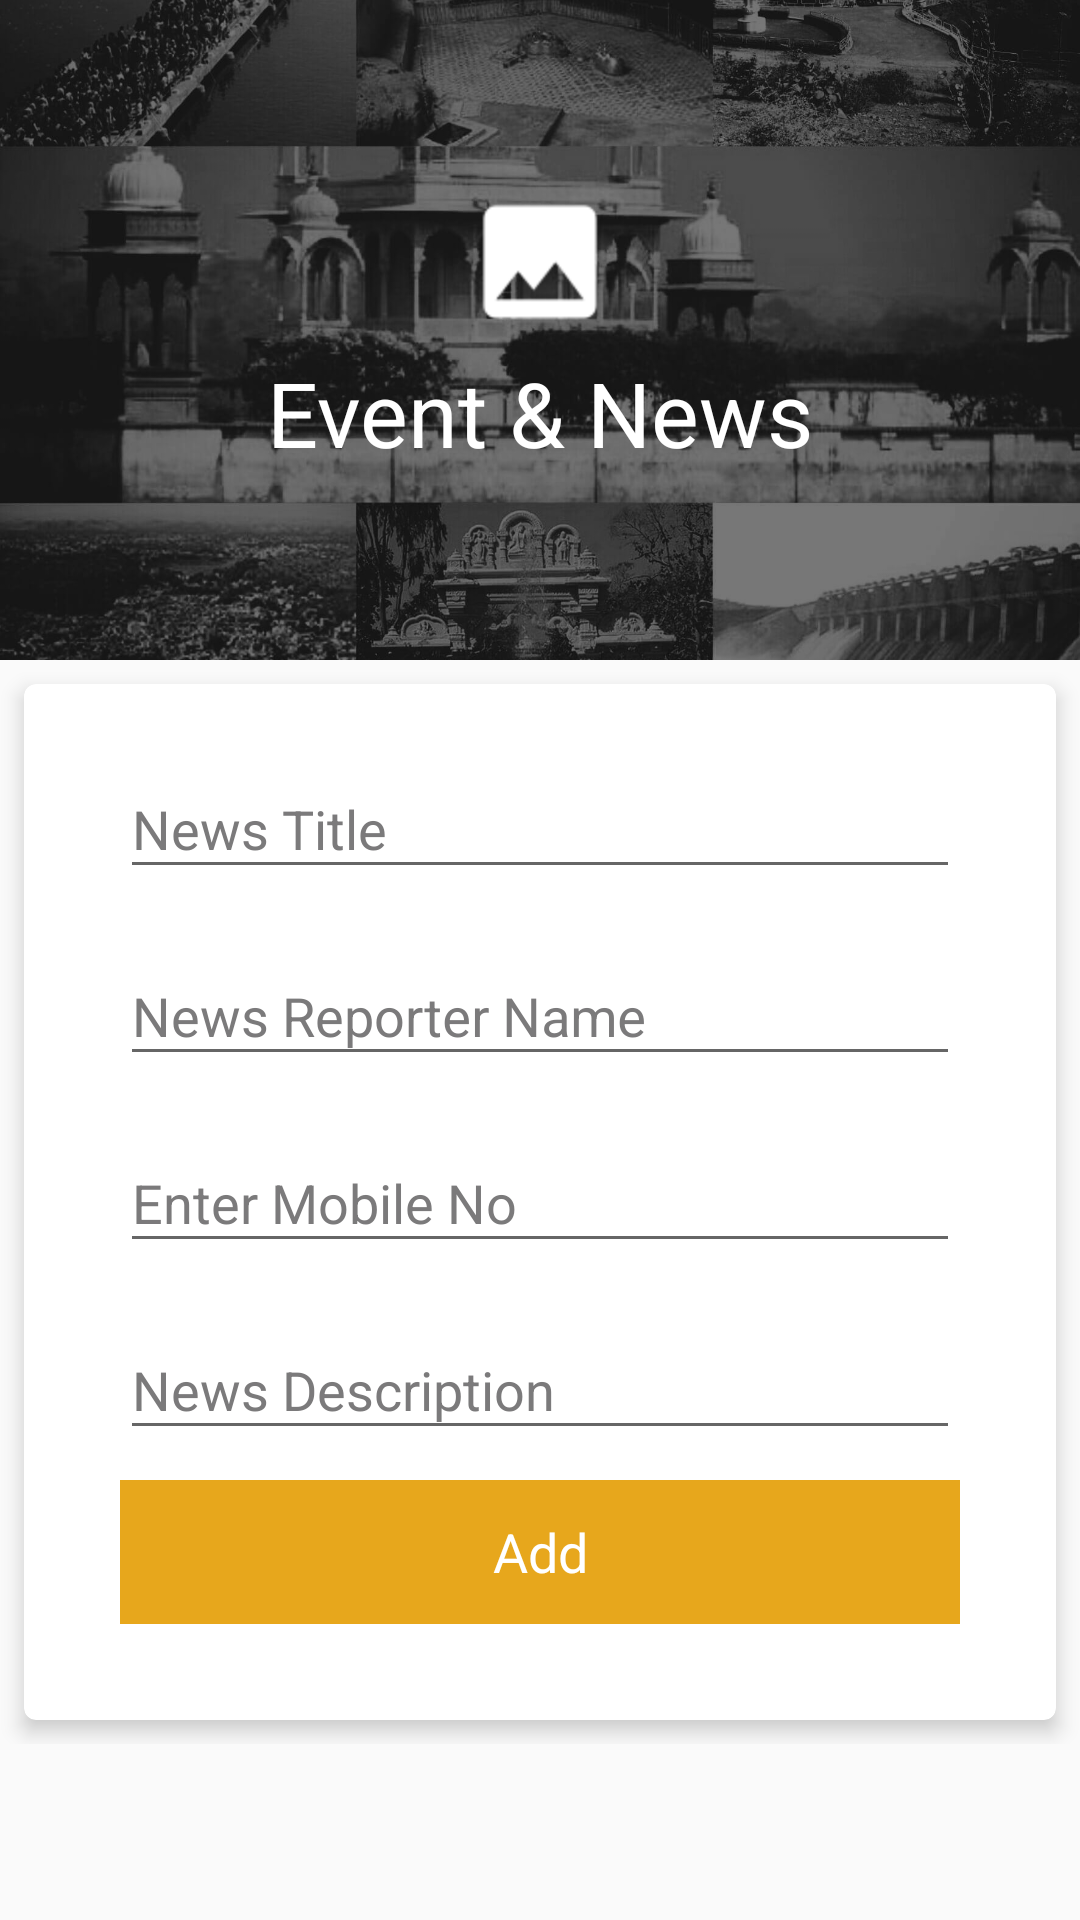

Where to tap for icons on this 1080 x 1920 app screen, as (x,y):
gallery: (540,262)
